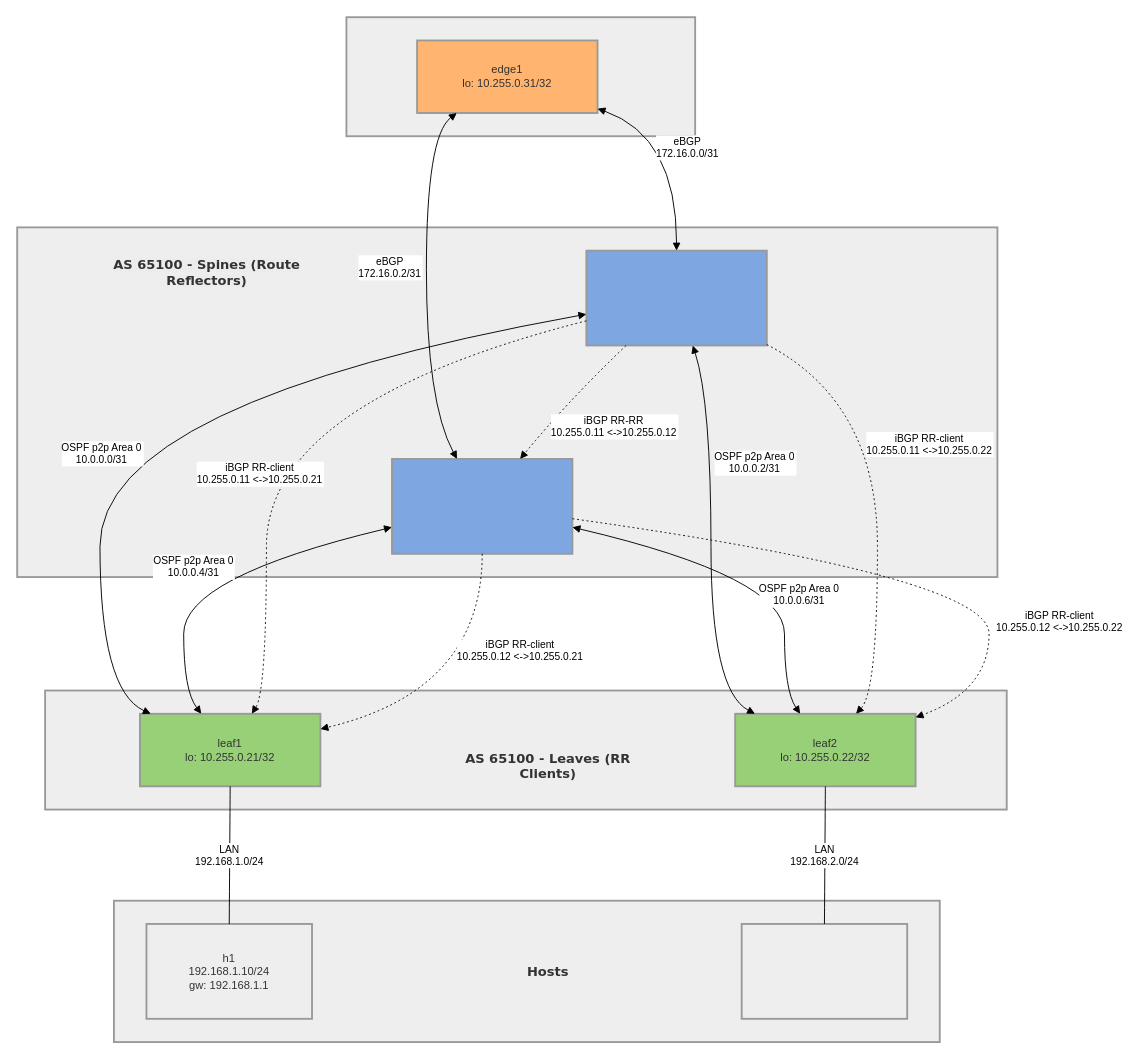
Image size: 1139x1058. Some labels were removed from this diagram. The shapes that lost their labels are listed below. From the top down, each one's centre as x and y in pixels, then its label:
At (676,297): "spine1 lo: 10.255.0.11/32 RR".
At (482,506): "spine2 lo: 10.255.0.12/32 RR".
At (824,971): "h2 192.168.2.10/24 gw: 192.168.2.1".
